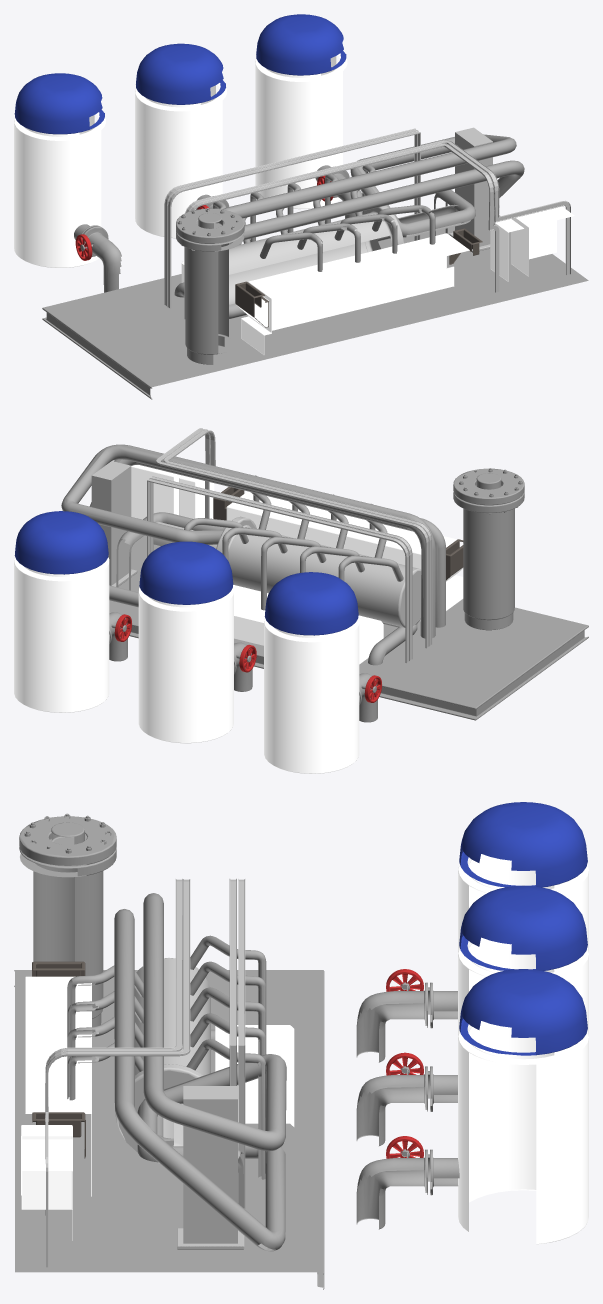
File: Technologie.glb
The picture shows the model from 3 angles, top to bottom: view 1: azimuth 30°, elevation 25°; view 2: azimuth 150°, elevation 25°; view 3: azimuth 270°, elevation 25°; orthographic projection. The views are drawn at different scales.
Parts seen in each view (by area): view 1: Cube.405, Cylinder.051, Cube.406, Cylinder.056, Cylinder.057, Plane.015, Cylinder.058, BézierCurve.016, Cylinder.062, BézierCurve.019, BézierCurve.020, Cube.407; view 2: Cylinder.056, Cylinder.051, Cylinder.057, Cube.405, Cube.406, Cylinder.058, BézierCurve.016, Cylinder.062, Plane.015, BézierCurve.020, BézierCurve.019, Cube.407 (+1 smaller); view 3: Cube.405, Cylinder.057, Cylinder.051, Cylinder.056, Cube.406, Cylinder.058, BézierCurve.016, BézierCurve.019, Plane.015, BézierCurve.020, Cube.407, Cylinder.062 (+1 smaller).
Boxes of the visible parts, x1,y1,x2,y2 form: Cube.405: (42,215,588,399); Cylinder.051: (14,73,121,292); Cube.406: (235,206,574,355); Cylinder.056: (135,43,241,244); Cylinder.057: (255,14,362,218); Plane.015: (164,128,570,319); Cylinder.058: (176,208,244,364); BézierCurve.016: (222,134,516,237); Cylinder.062: (229,204,458,304); BézierCurve.019: (174,160,524,318); BézierCurve.020: (213,165,435,271); Cube.407: (449,127,492,252); Cylinder.056: (138,541,256,743); Cylinder.051: (264,572,381,773); Cylinder.057: (14,511,131,712); Cube.405: (109,535,588,720); Cube.406: (131,465,463,610); Cylinder.058: (453,468,524,630); BézierCurve.016: (61,444,435,638); Cylinder.062: (153,516,421,627); Plane.015: (147,428,432,663); BézierCurve.020: (184,475,403,610); BézierCurve.019: (89,459,445,665); Cube.407: (91,461,137,586); Cube.405: (14,970,324,1289); Cylinder.057: (356,969,588,1244); Cylinder.051: (356,802,588,1062); Cylinder.056: (356,885,588,1145); Cube.406: (21,961,91,1240); Cylinder.058: (19,816,116,1032); BézierCurve.016: (137,893,286,1207); BézierCurve.019: (114,909,285,1251); Plane.015: (45,878,245,1267); BézierCurve.020: (67,935,266,1179); Cube.407: (177,1086,244,1249); Cylinder.062: (115,958,210,1163).
Size of the model in its own units: 2.64 by 1 by 2.12.
